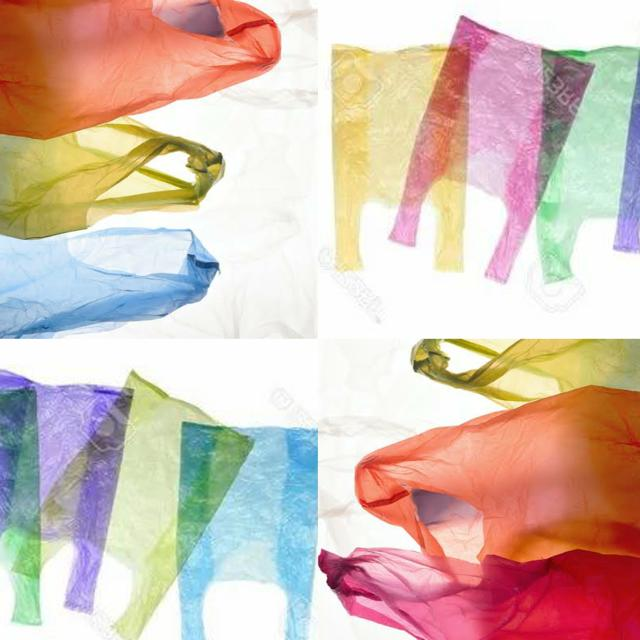plastik: (4, 351, 272, 640), (381, 1, 603, 295), (355, 386, 640, 562), (0, 0, 280, 140), (328, 26, 473, 284), (0, 356, 140, 620), (168, 409, 325, 640), (319, 548, 640, 640), (536, 17, 640, 294), (0, 117, 224, 239), (0, 229, 219, 338), (410, 339, 640, 409)
